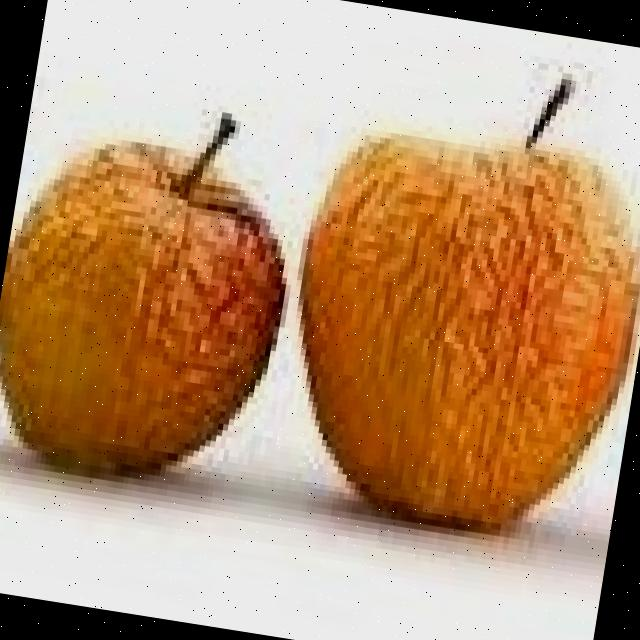overripe: (261, 99, 640, 553), (0, 112, 305, 502)
